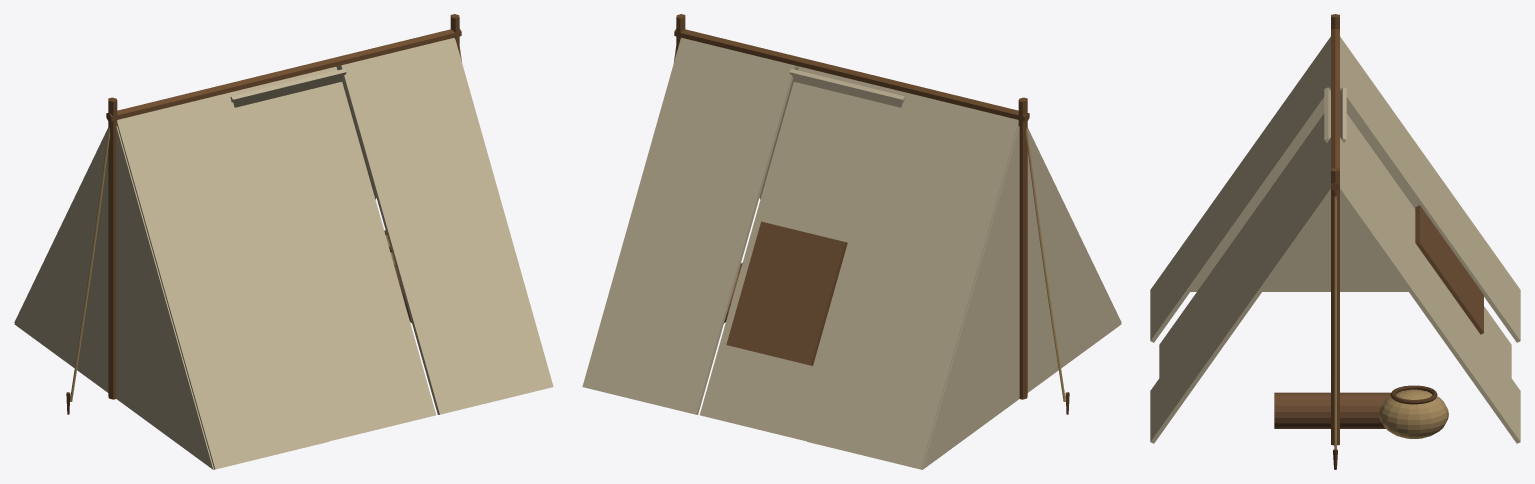
Rendered from refugee-tent-a.glb.
3 views of the same model, side by side, from view 1: azimuth 30°, elevation 25°; view 2: azimuth 150°, elevation 25°; view 3: azimuth 270°, elevation 25° (orthographic). The views are drawn at different scales.
Visible parts, largest first — view 1: Body_Main, Body_Wood, Body_Rope; view 2: Body_Main, Body_Second, Body_Wood, Body_Rope; view 3: Body_Main, Body_Second, Body_Wood, Body_Rope, Body_WoodDark.
Boxes of the visible parts, box(x1,y1,x2,y2) form: Body_Main: box(14, 38, 553, 469); Body_Wood: box(106, 14, 461, 399); Body_Rope: box(70, 47, 461, 401); Body_Main: box(582, 38, 1121, 469); Body_Second: box(724, 221, 847, 365); Body_Wood: box(674, 14, 1029, 399); Body_Rope: box(674, 46, 1065, 401); Body_Main: box(1150, 36, 1520, 443); Body_Second: box(1274, 205, 1483, 428); Body_Wood: box(1331, 14, 1339, 445); Body_Rope: box(1334, 196, 1448, 449); Body_WoodDark: box(1333, 385, 1437, 469).
Bounding box in the file's own units: 3 × 2 × 2.4.
